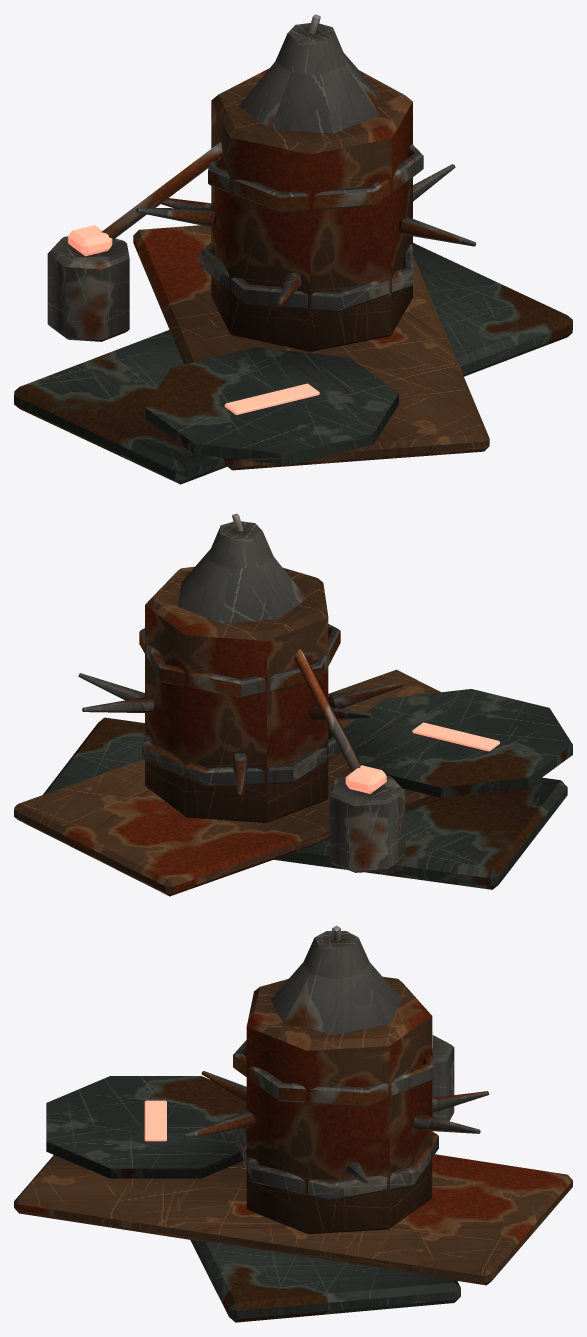
File: R4D_ExplosiveTrap_LOD1.glb
3 renders of one model, top to bottom at view 1: azimuth 30°, elevation 25°; view 2: azimuth 150°, elevation 25°; view 3: azimuth 270°, elevation 25°, orthographic. The views are drawn at different scales.
Visible parts, largest first — view 1: R4D_ExplosiveTrap_LOD1; view 2: R4D_ExplosiveTrap_LOD1; view 3: R4D_ExplosiveTrap_LOD1.
Boxes of the visible parts, box(x1,y1,x2,y2) form: R4D_ExplosiveTrap_LOD1: box(14, 14, 572, 484); R4D_ExplosiveTrap_LOD1: box(14, 513, 572, 896); R4D_ExplosiveTrap_LOD1: box(14, 925, 572, 1322).
Bounding box in the file's own units: 0.4716 × 0.2999 × 0.4948.
5 materials, 4 textured.
